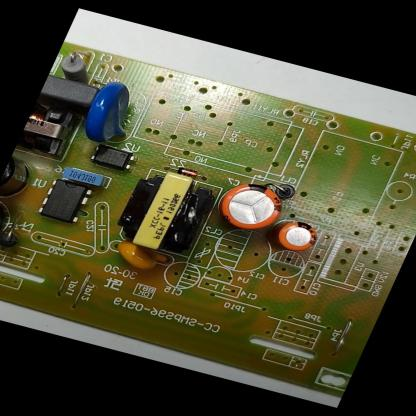Cap1: (204, 173, 293, 239)
Cap2: (264, 213, 326, 259)
Cap3: (0, 148, 45, 205)
Cap4: (0, 198, 21, 252)
MOSFET: (33, 176, 97, 228)
Mov: (71, 73, 152, 150)
Resistor: (50, 45, 105, 88)
Transformer: (16, 100, 84, 160)
